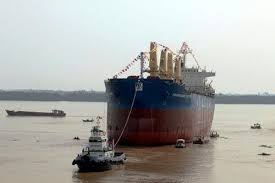tau_dansu: (101, 56, 220, 141), (65, 125, 129, 170), (3, 106, 69, 119), (250, 119, 265, 138)
